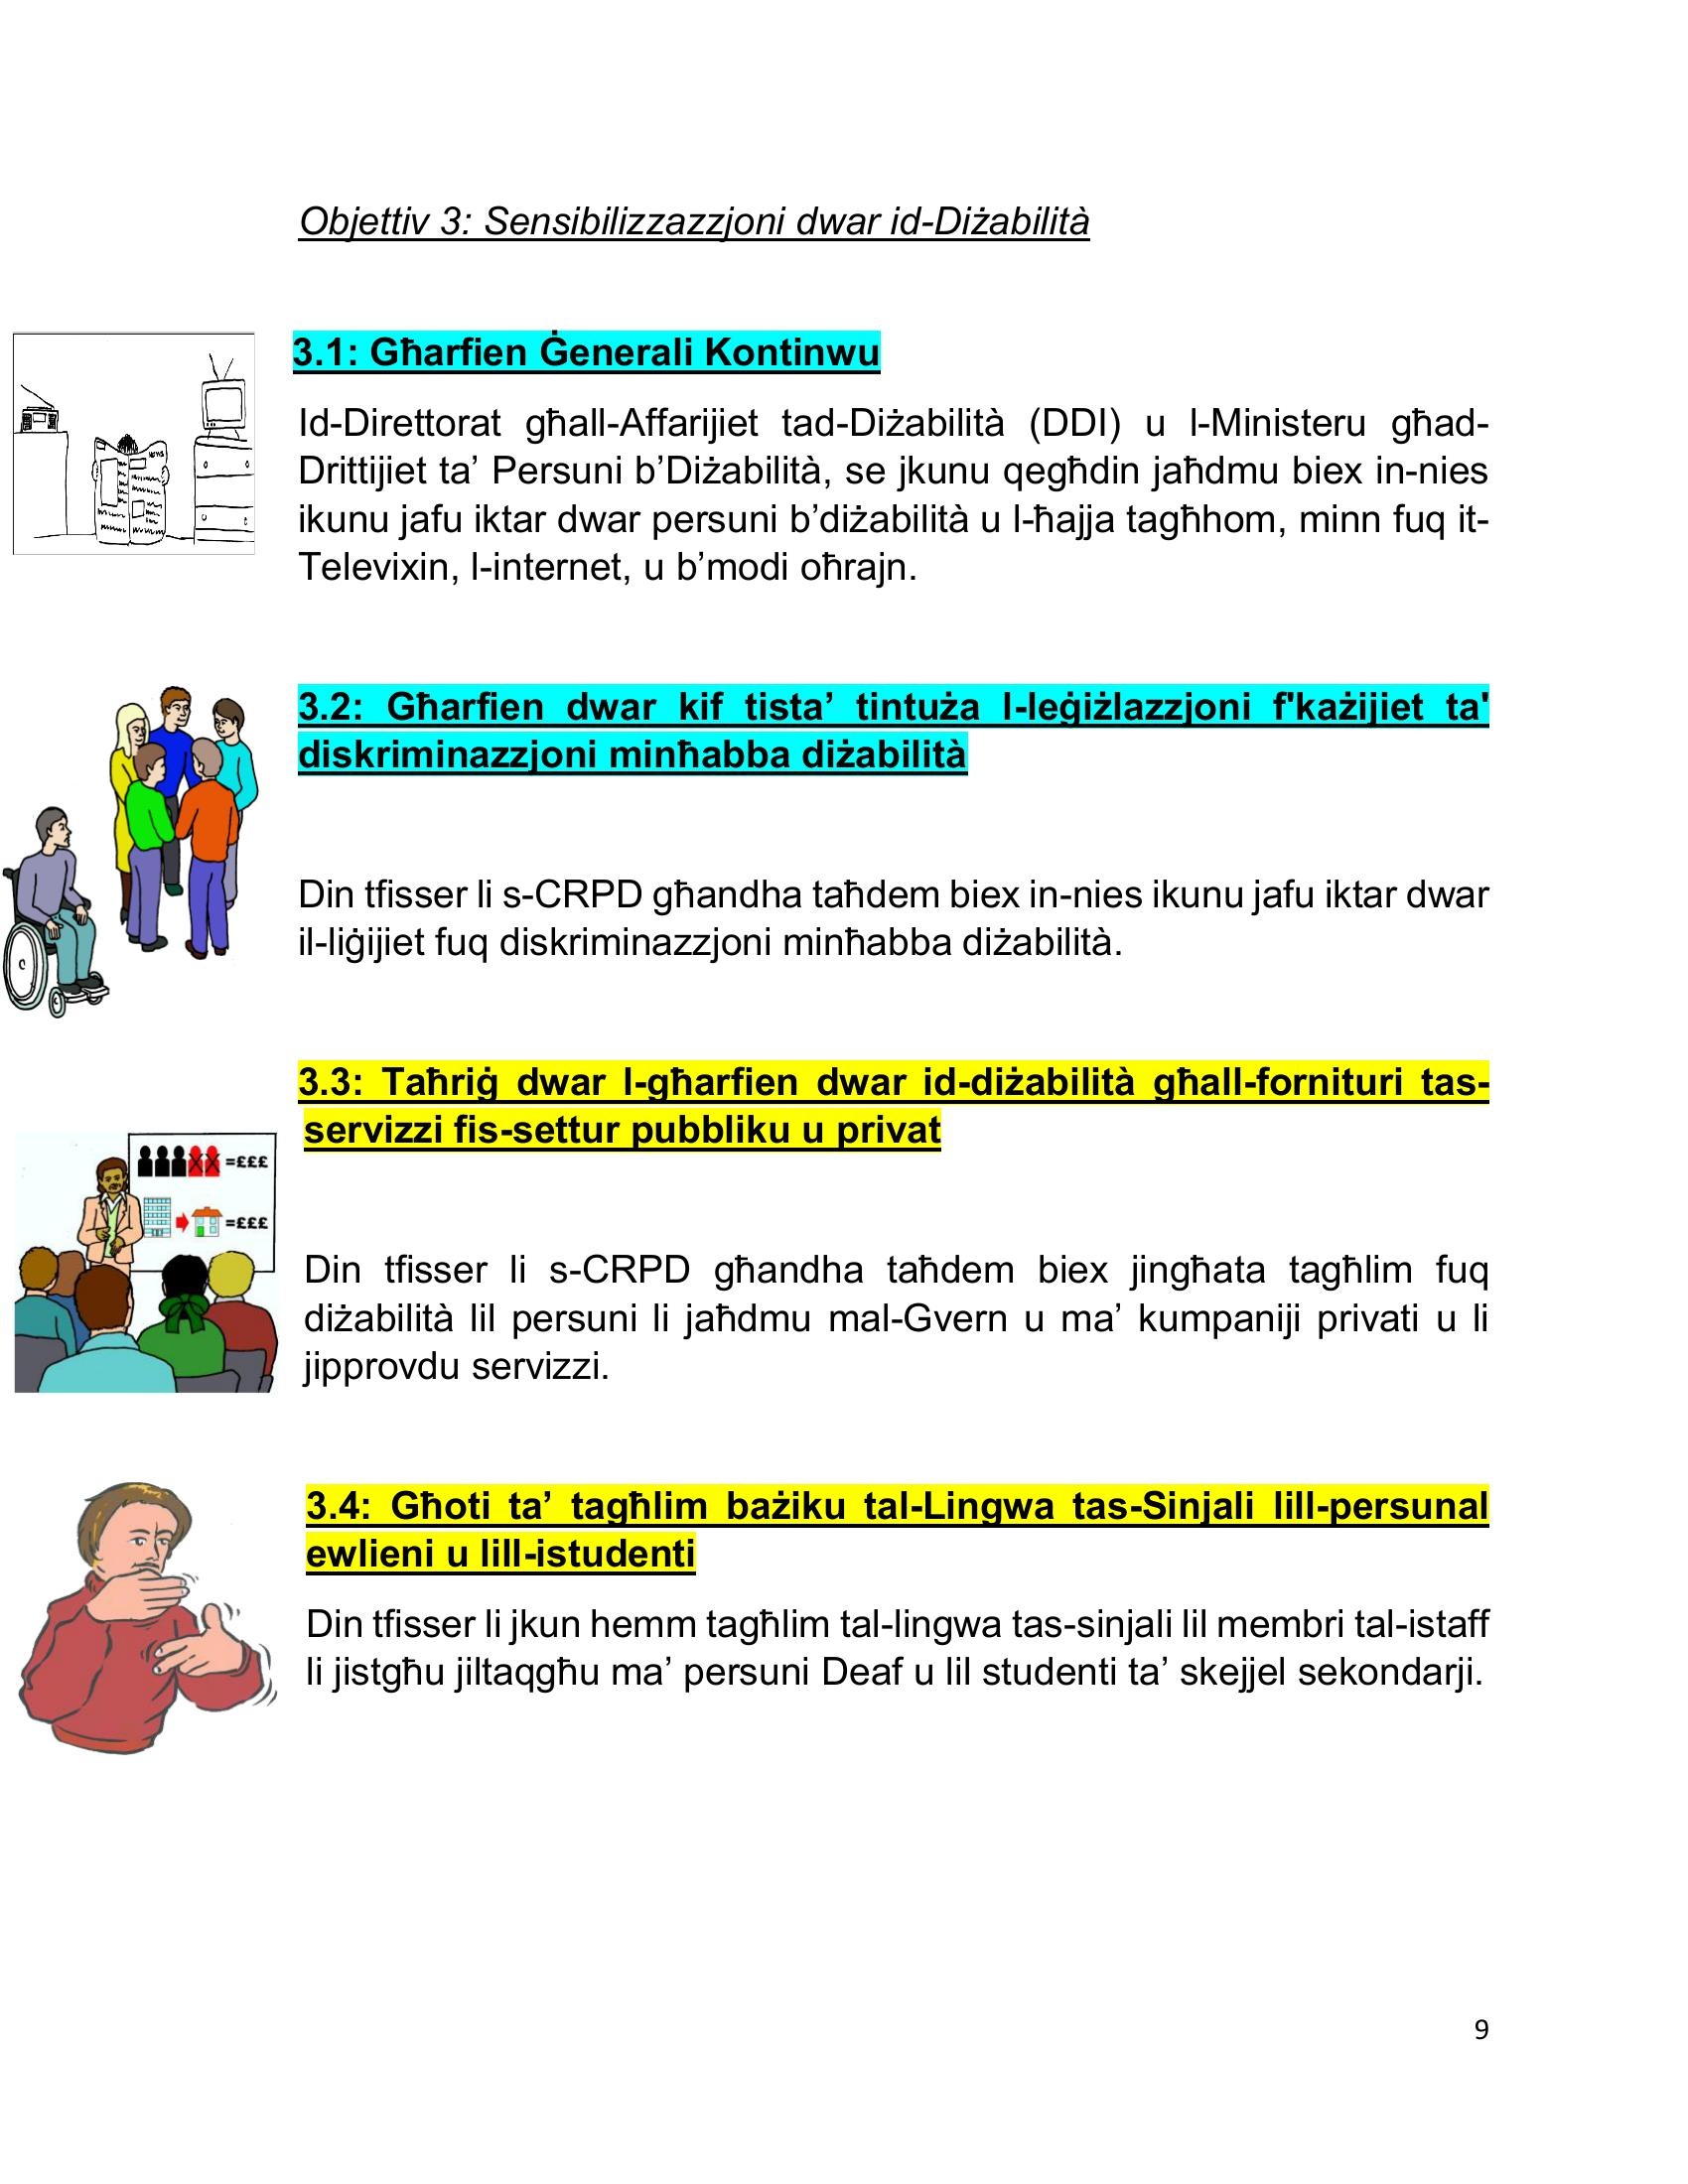text: (284, 186, 1514, 1718)
